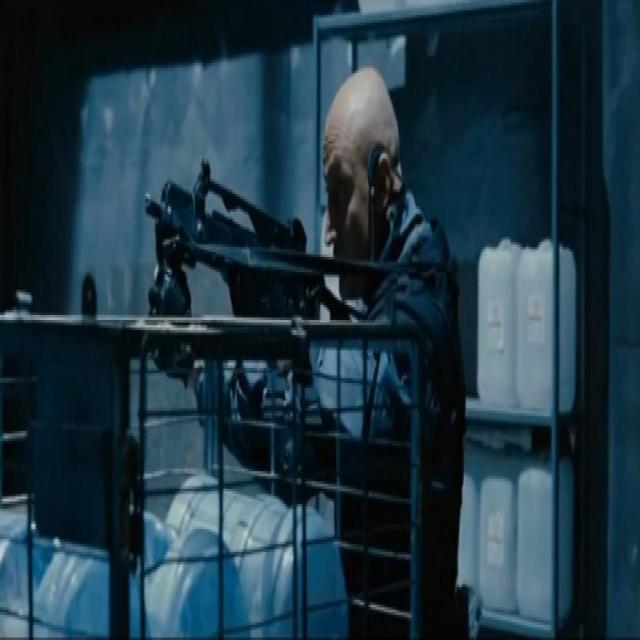rifle: (140, 157, 330, 345)
